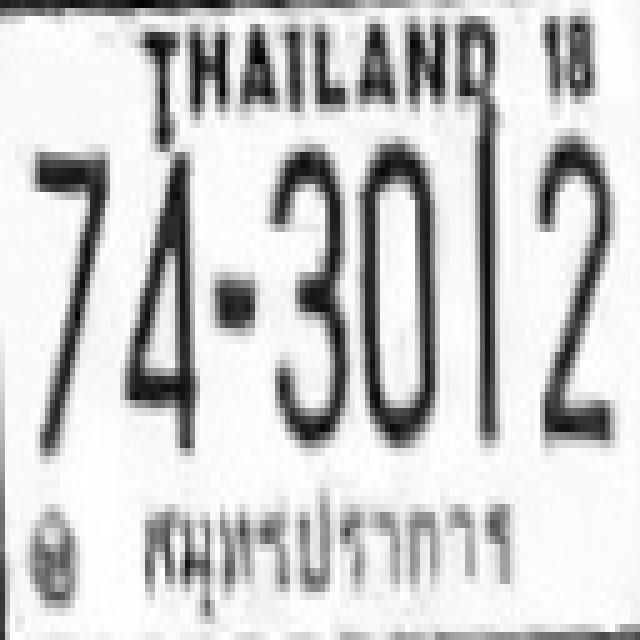0: (355, 136, 435, 440)
2: (532, 132, 612, 444)
3: (265, 136, 345, 440)
4: (120, 144, 195, 448)
7: (30, 148, 105, 452)
SamutPrakan: (133, 471, 519, 632)
